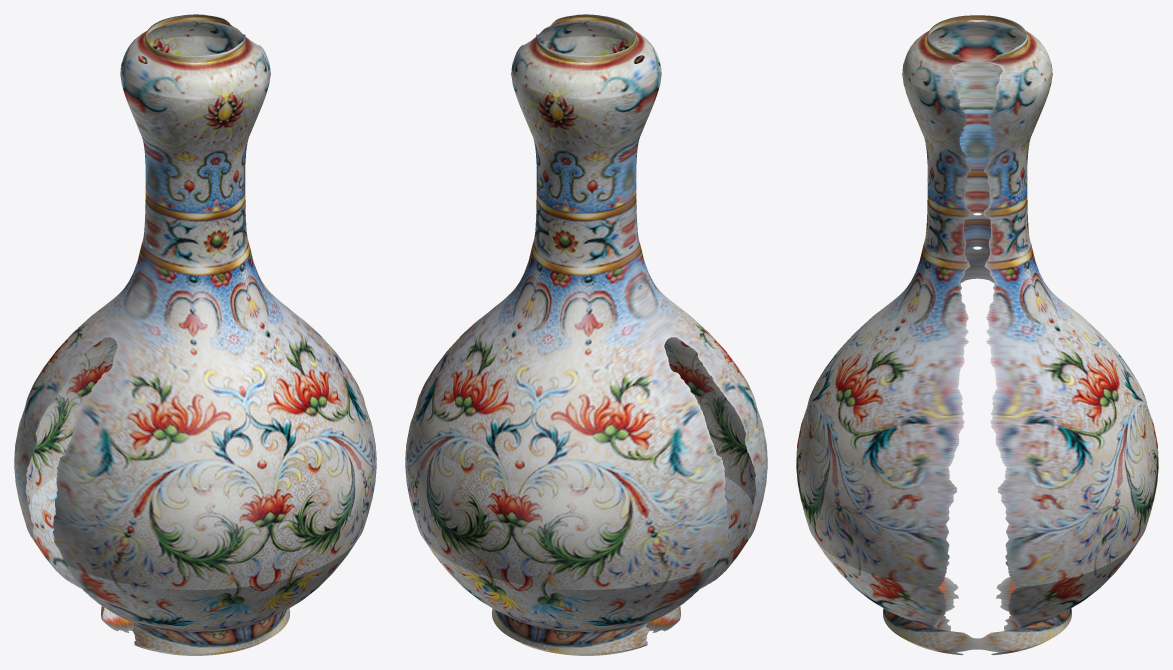
Rendered from 瓷器瓶模型.fbx.
The picture shows the model from 3 angles, left to right: view 1: azimuth 30°, elevation 25°; view 2: azimuth 150°, elevation 25°; view 3: azimuth 270°, elevation 25°; orthographic projection.
Visible parts, largest first — view 1: Line001; view 2: Line001; view 3: Line001.
Part boxes in pixels (bbox=[...]): Line001: bbox=[14, 14, 376, 655]; Line001: bbox=[405, 14, 767, 655]; Line001: bbox=[796, 15, 1158, 655].
Size of the model in its own units: 10.84 by 19.82 by 10.84.
